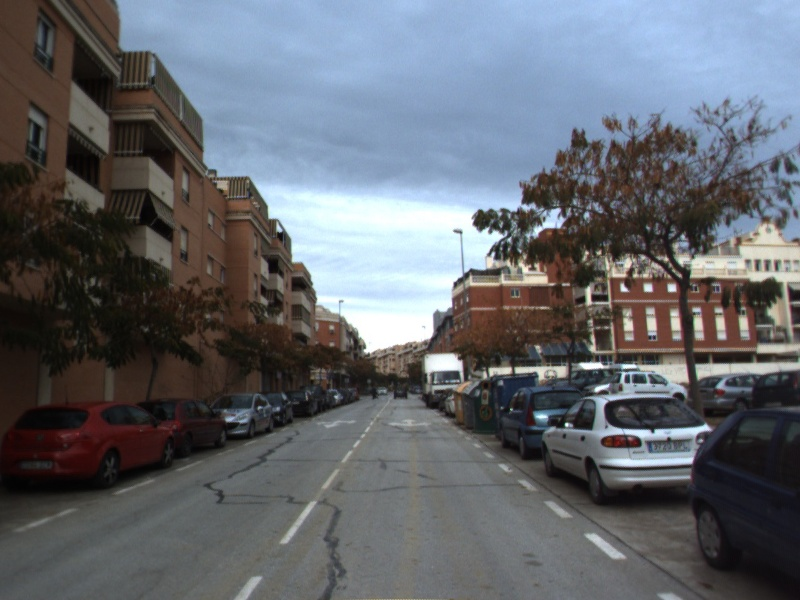STRAIGHT_LEFT_RIGHT: (386, 417, 434, 429)
